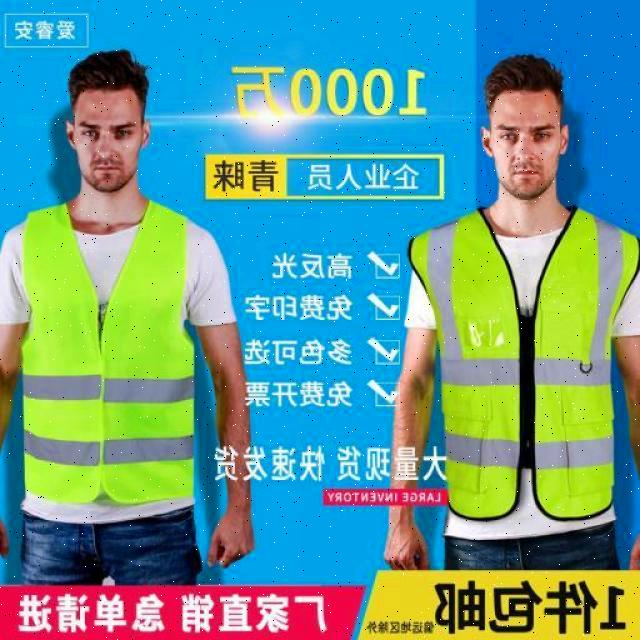Person: (3, 45, 258, 592), (395, 54, 640, 579)
Vest: (14, 203, 200, 526), (434, 217, 617, 525)
